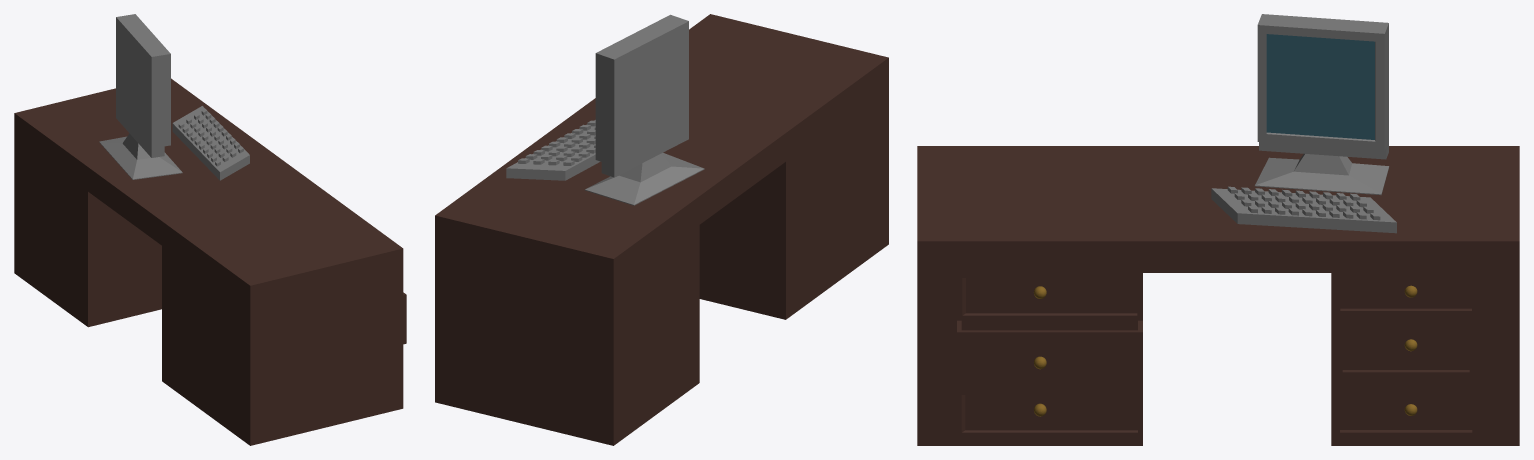
File: PCDESK.fbx
3 renders of one model, left to right at view 1: azimuth 30°, elevation 25°; view 2: azimuth 150°, elevation 25°; view 3: azimuth 270°, elevation 25°, orthographic. The views are drawn at different scales.
Visible parts, largest first — view 1: Desk, PC, Keyboard; view 2: Desk, PC, Keyboard; view 3: Desk, PC, Keyboard.
Boxes of the visible parts, x1,y1,x2,y2 form: Desk: (14, 78, 406, 445); PC: (99, 14, 182, 179); Keyboard: (172, 106, 249, 180); Desk: (435, 14, 888, 445); PC: (585, 14, 704, 205); Keyboard: (506, 120, 600, 180); Desk: (917, 146, 1519, 445); PC: (1254, 14, 1389, 195); Keyboard: (1211, 186, 1396, 233).
Size of the model in its own units: 231 by 351 by 534.
